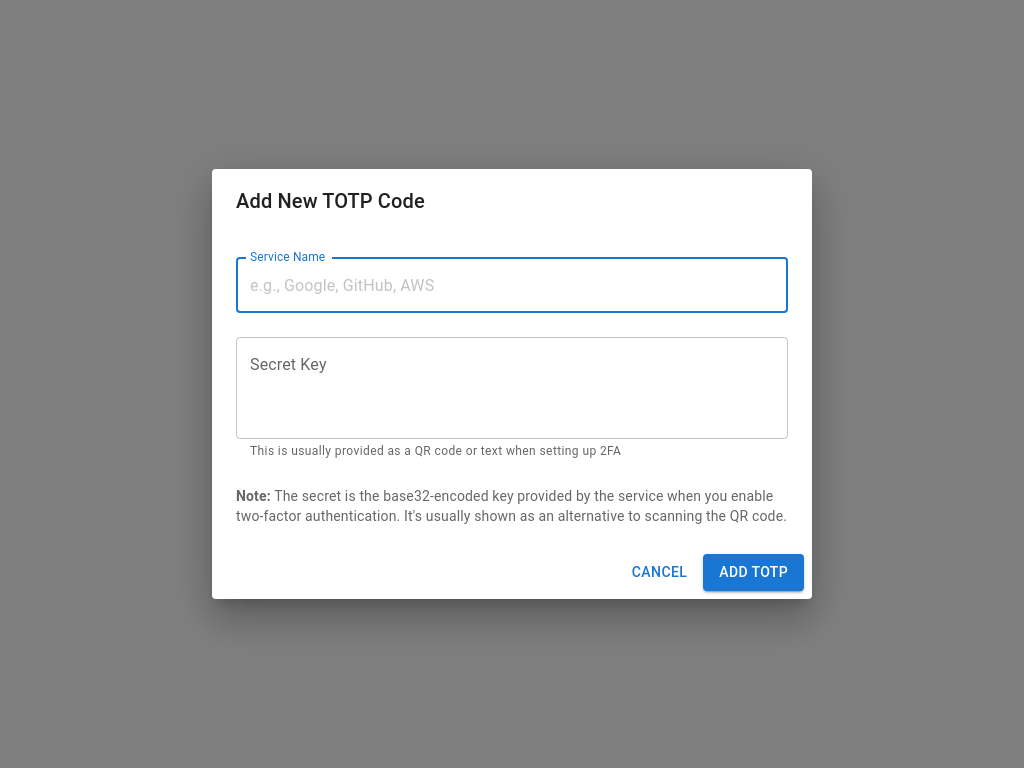
Test: AddTotpDialog Component › validates required fields
Click the button "Add TOTP" at (754, 572), box [703, 554, 804, 591]
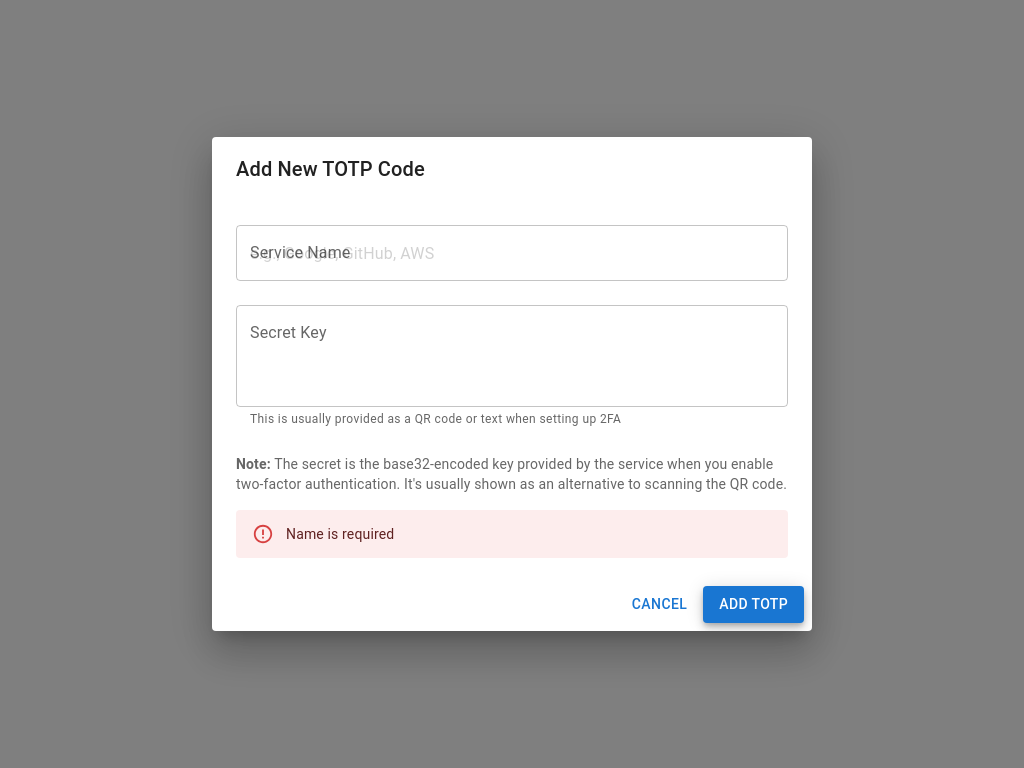
Expected: the text "Name is required" is shown, [286, 526, 394, 542]
